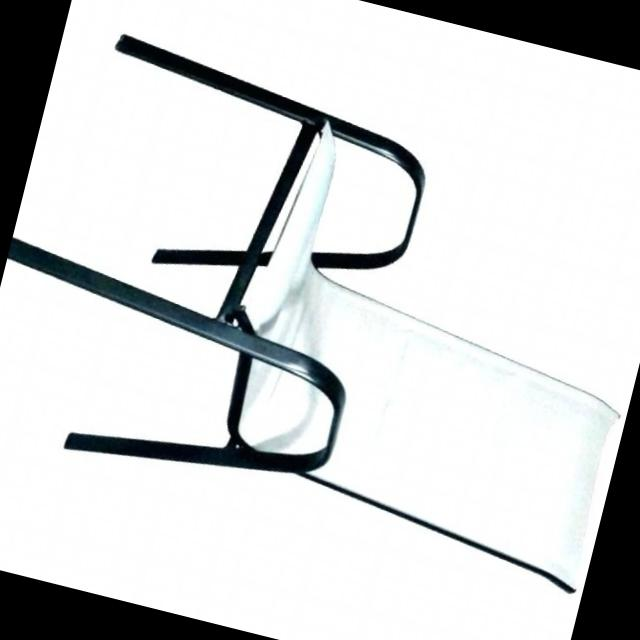Chair: (0, 13, 640, 602)
